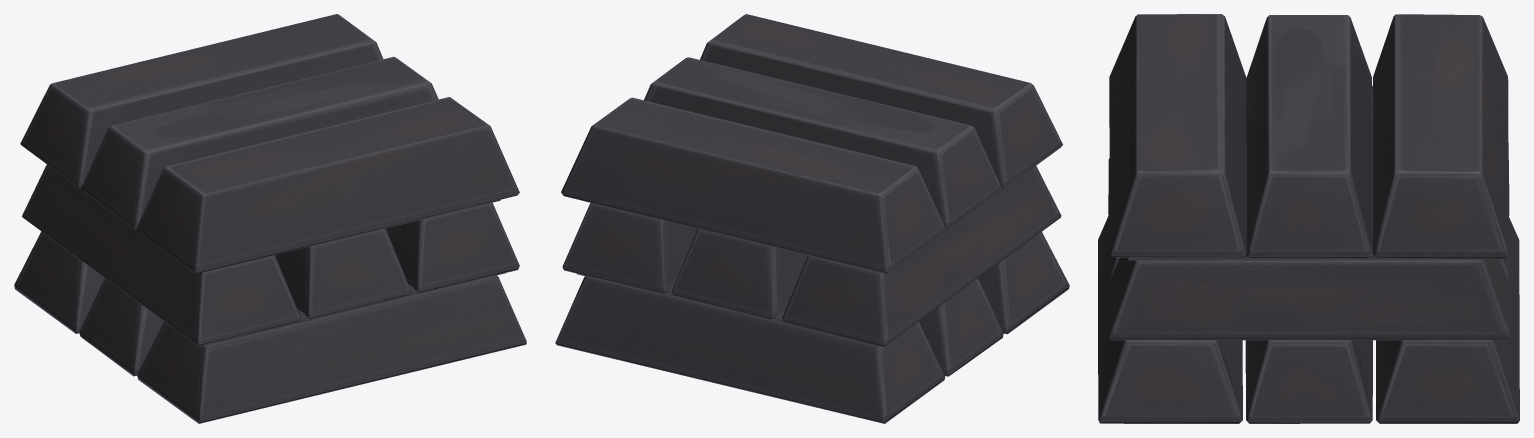
File: meshy-b-600.glb
The picture shows the model from 3 angles, left to right: view 1: azimuth 30°, elevation 25°; view 2: azimuth 150°, elevation 25°; view 3: azimuth 270°, elevation 25°; orthographic projection. The views are drawn at different scales.
Size of the model in its own units: 1 by 0.6235 by 0.9863.
Materials: 1 (1 with a texture image).
